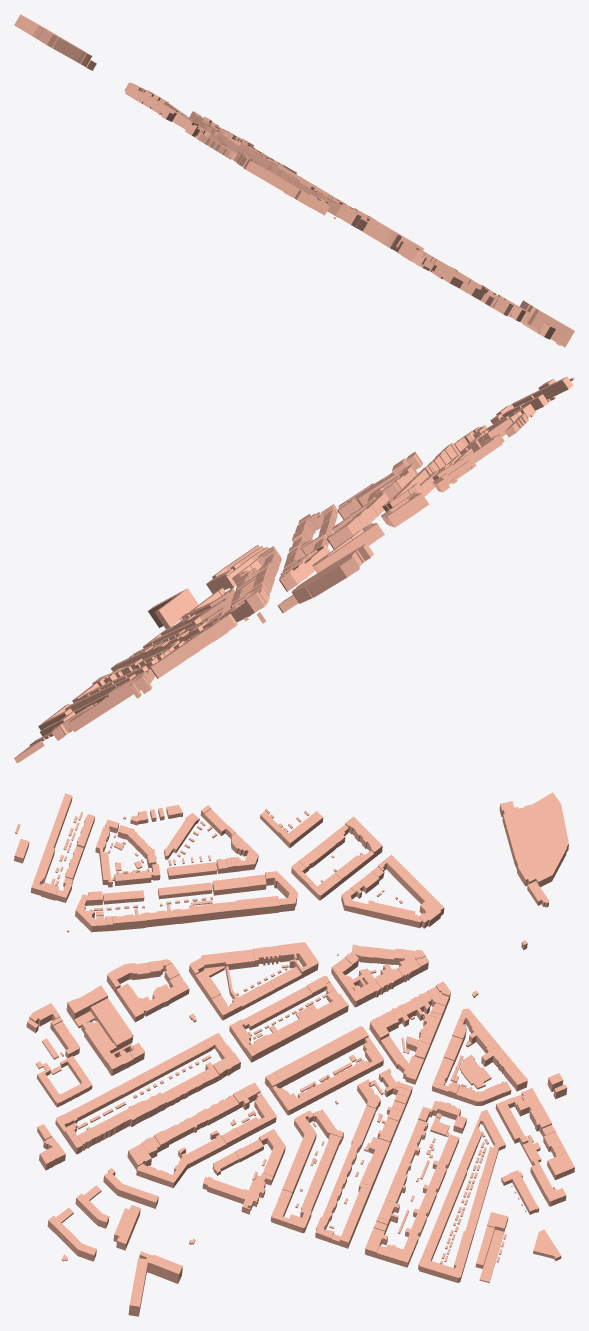
3 views of the same model, one above another, from view 1: azimuth 30°, elevation 25°; view 2: azimuth 150°, elevation 25°; view 3: azimuth 270°, elevation 25° (orthographic). The views are drawn at different scales.
Bounding box in the file's own units: 568 × 422 × 645.
